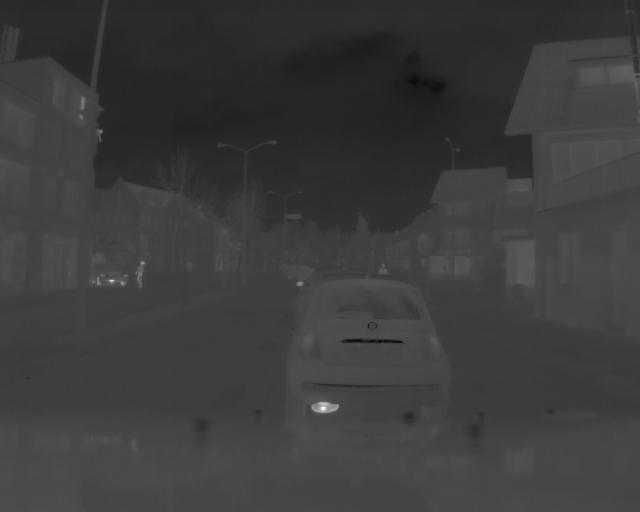car: (283, 276, 449, 418), (88, 264, 131, 288)
person: (134, 258, 146, 290)
